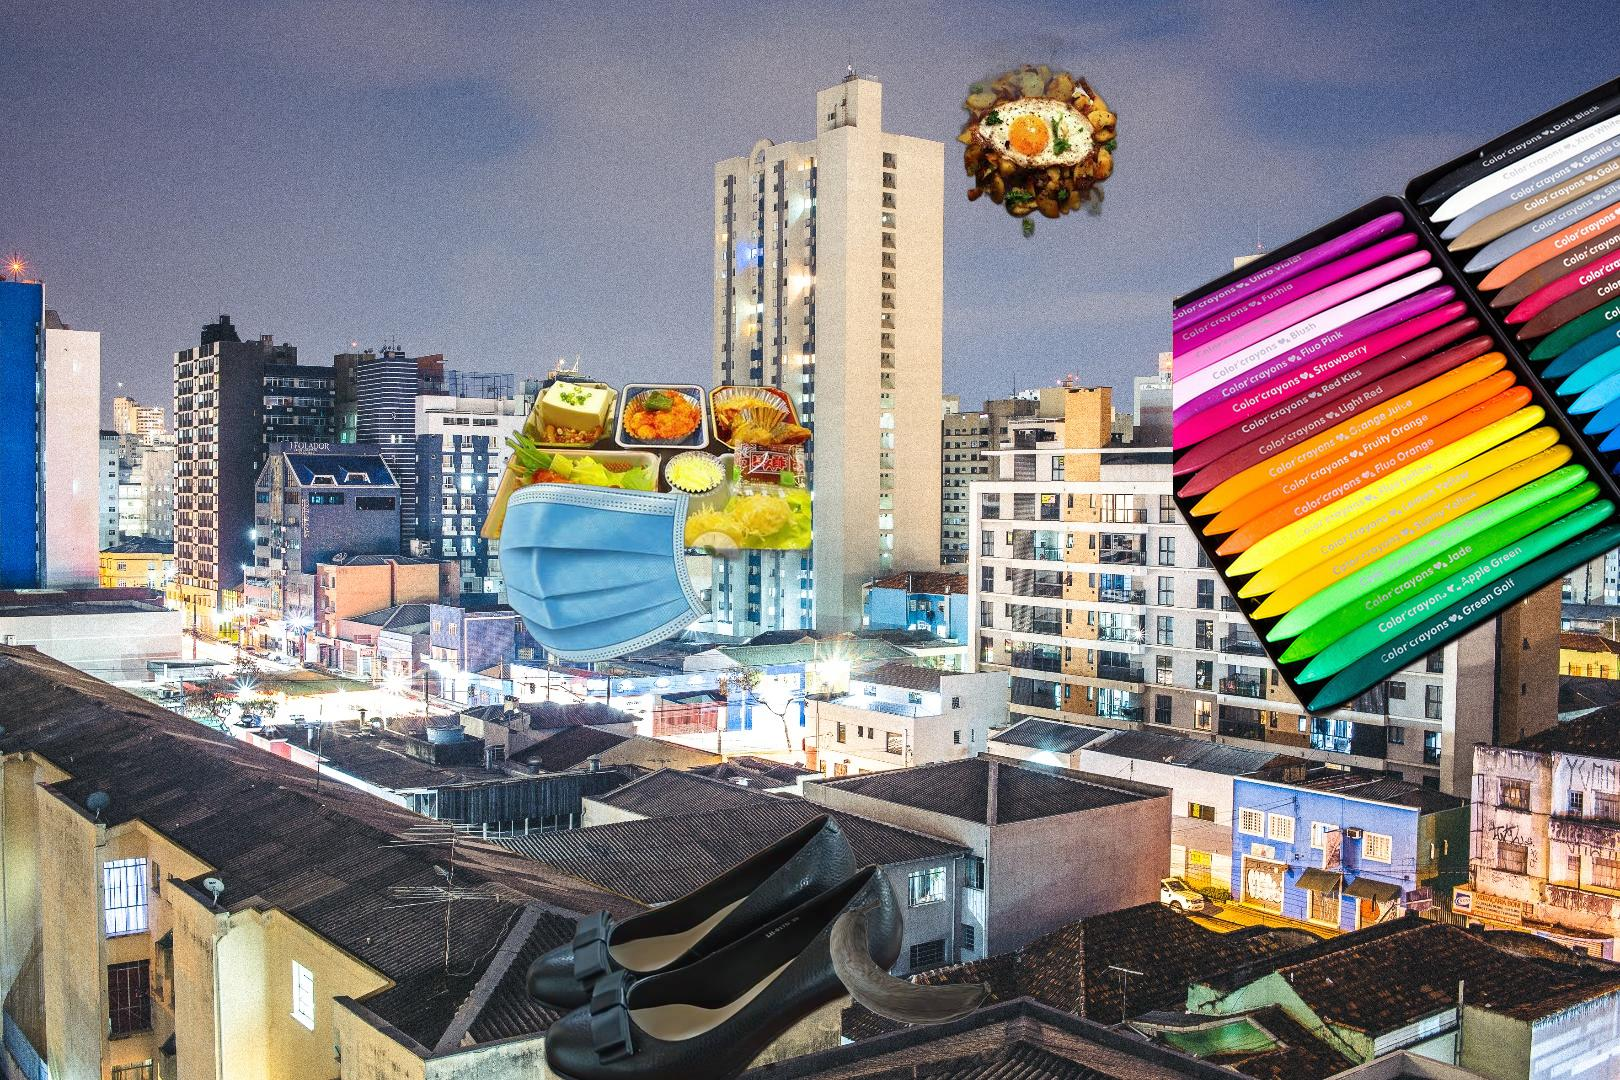biological: (476, 378, 811, 599), (921, 24, 1146, 250), (828, 894, 994, 1028)
metal-cans: (1058, 1041, 1477, 1080)
penholder: (1173, 39, 1620, 724)
shoes: (523, 809, 909, 1080)
trash: (498, 479, 747, 663)
